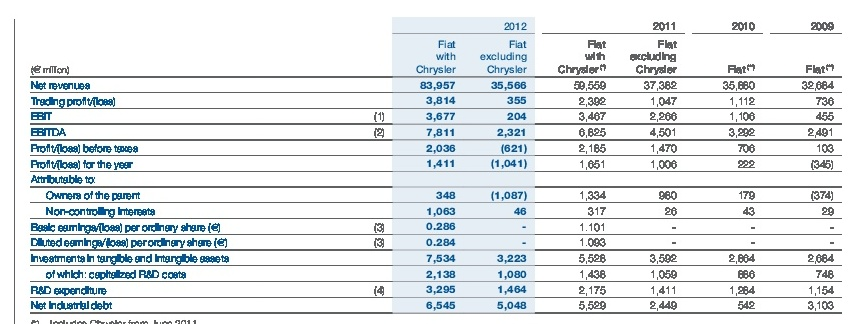table: (0, 0, 858, 324)
